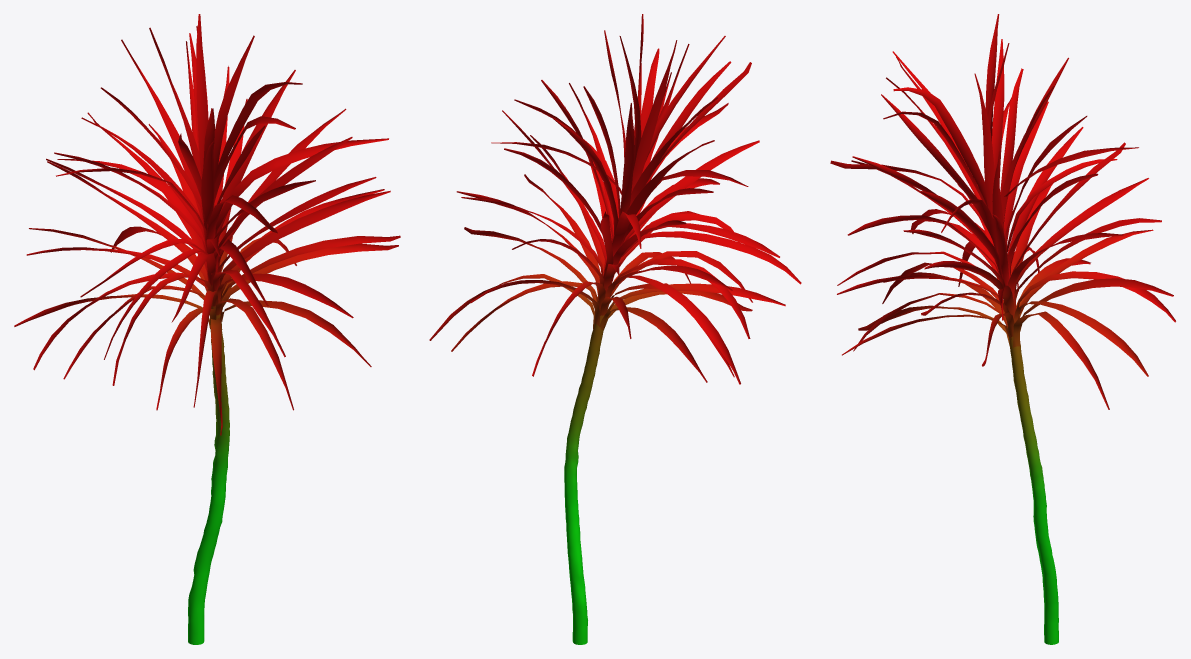
File: Dragon Tree_LOD1_Var4_wfypejzha.fbx
3 renders of one model, left to right at view 1: azimuth 30°, elevation 25°; view 2: azimuth 150°, elevation 25°; view 3: azimuth 270°, elevation 25°, orthographic. The views are drawn at different scales.
Parts seen in each view (by area): view 1: _4w0d_Var4_LOD1; view 2: _4w0d_Var4_LOD1; view 3: _4w0d_Var4_LOD1.
Part boxes in pixels (x1,y1,x2,y2): _4w0d_Var4_LOD1: [14, 14, 400, 644]; _4w0d_Var4_LOD1: [429, 14, 801, 644]; _4w0d_Var4_LOD1: [830, 14, 1175, 644].
Bounding box in the file's own units: 58.66 × 110 × 57.98.
